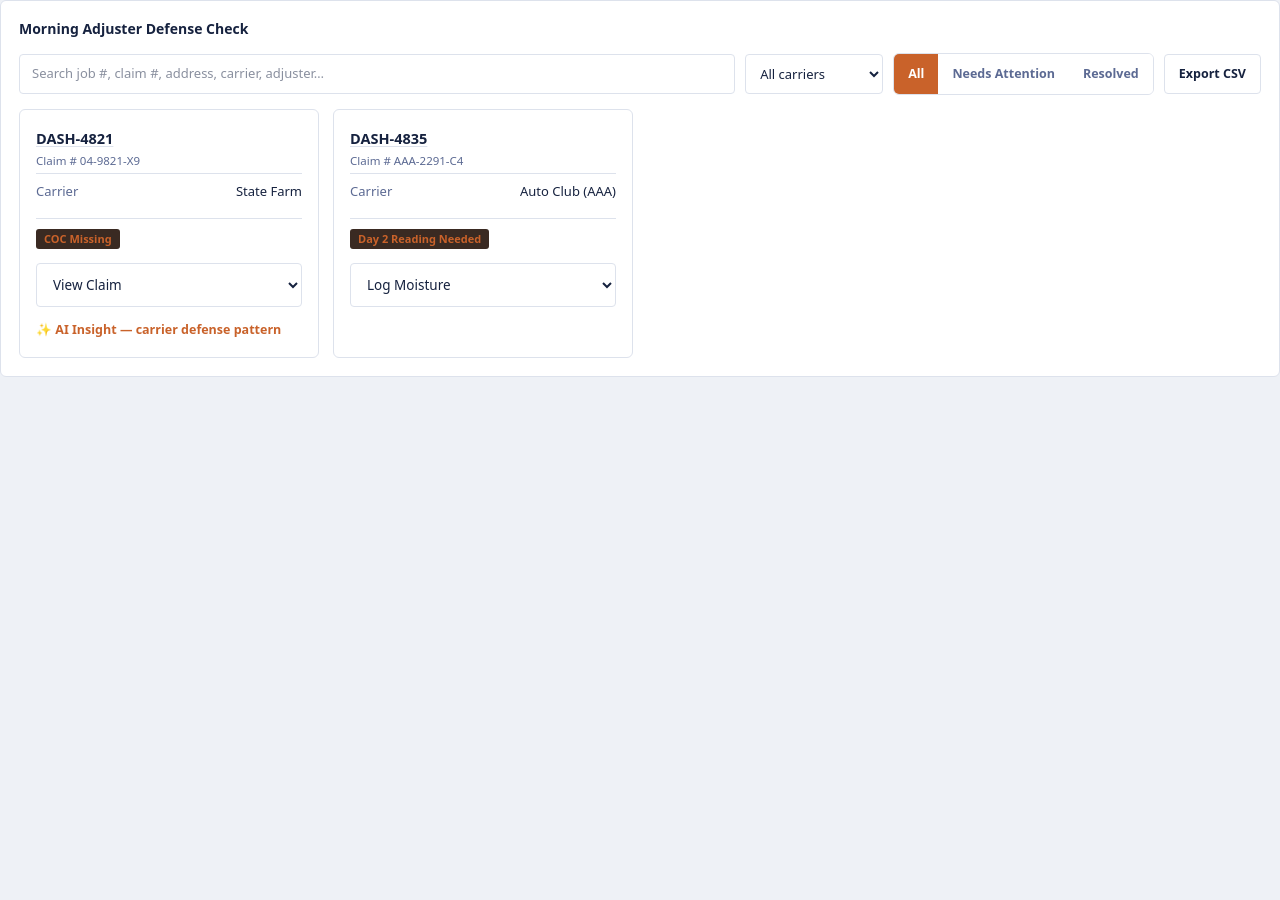
Scenario: AdjusterDefenseView › opens the correct case's detail modal, not always the same one
Click the button "DASH-4835" at (389, 139), box [350,128,427,150]
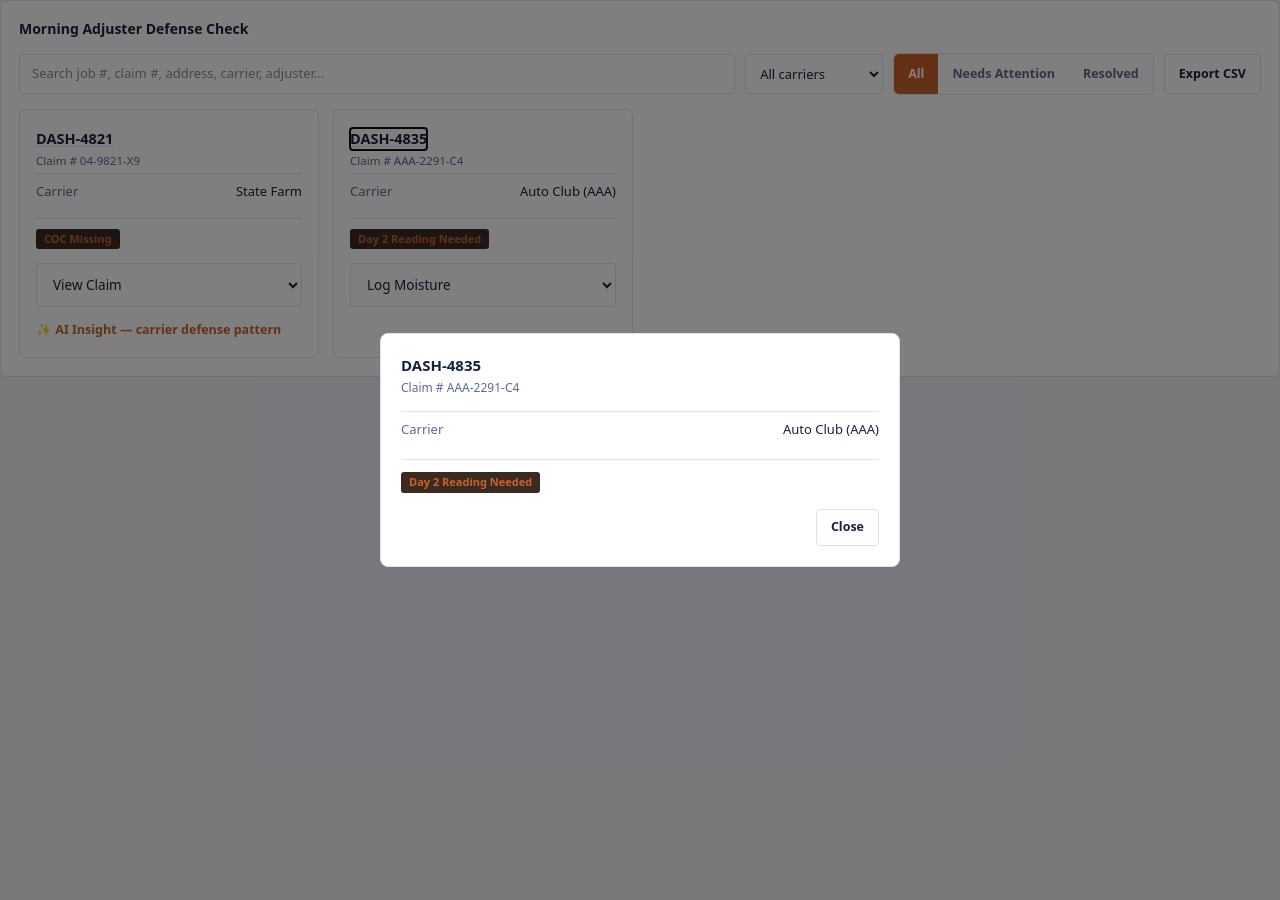
Now the dialog "DASH-4835" is shown
